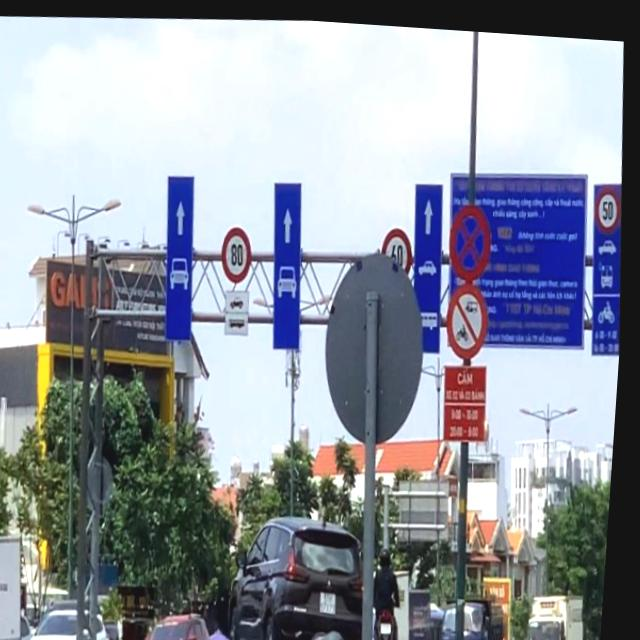Cam dung xe va do xe: (447, 194, 499, 278)
Toc do toi da cho phep: (222, 221, 258, 283)
